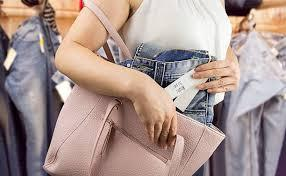shoplifting: (56, 10, 261, 172)
